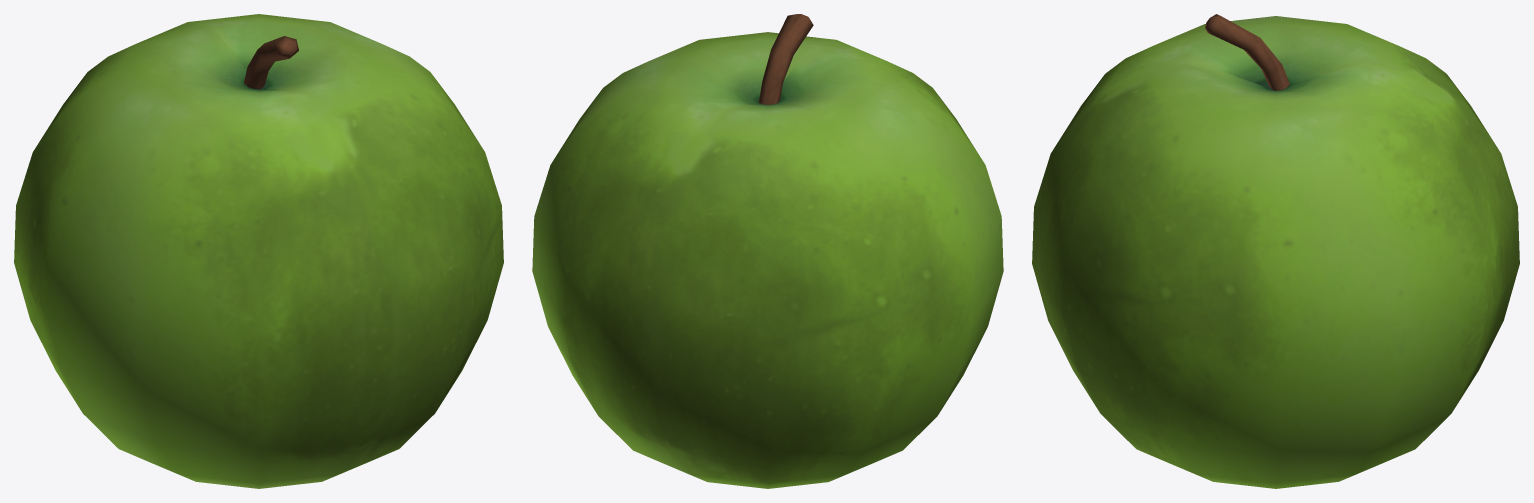
File: SM_Apple_Banana_01c.fbx
3 views of the same model, side by side, from view 1: azimuth 30°, elevation 25°; view 2: azimuth 150°, elevation 25°; view 3: azimuth 270°, elevation 25° (orthographic). The views are drawn at different scales.
Visible parts, largest first — view 1: SM_Apple_Banana_01c_LOD0; view 2: SM_Apple_Banana_01c_LOD0; view 3: SM_Apple_Banana_01c_LOD0.
Part boxes in pixels (bbox=[...]): SM_Apple_Banana_01c_LOD0: bbox=[14, 14, 503, 488]; SM_Apple_Banana_01c_LOD0: bbox=[532, 14, 1003, 488]; SM_Apple_Banana_01c_LOD0: bbox=[1032, 14, 1519, 488].
Bounding box in the file's own units: 9.36 × 9.36 × 9.28.
